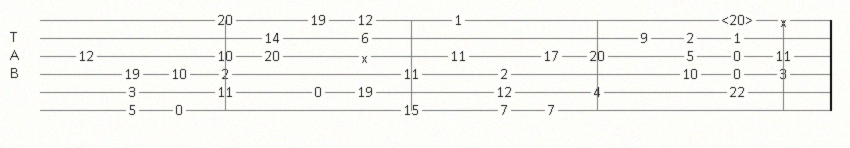0: (175, 103, 187, 117), (314, 85, 326, 99), (733, 67, 745, 81), (733, 49, 745, 63)
1: (454, 13, 466, 27), (733, 31, 745, 45)
10: (171, 67, 191, 81), (217, 49, 237, 63), (682, 67, 702, 81)
11: (217, 85, 237, 99), (403, 67, 423, 81), (450, 49, 470, 63), (775, 49, 795, 63)
12: (78, 49, 98, 63), (357, 13, 377, 27), (496, 85, 516, 99)
14: (264, 31, 284, 45)
15: (403, 103, 423, 117)
17: (543, 49, 563, 63)
19: (124, 67, 144, 81), (310, 13, 330, 27), (357, 85, 377, 99)
2: (221, 67, 233, 81), (500, 67, 512, 81), (686, 31, 698, 45)
20: (217, 13, 237, 27), (264, 49, 284, 63), (589, 49, 609, 63)
22: (729, 85, 749, 99)
3: (128, 85, 140, 99), (779, 67, 791, 81)
4: (593, 85, 605, 99)
5: (128, 103, 140, 117), (686, 49, 698, 63)
6: (361, 31, 373, 45)
7: (500, 103, 512, 117), (547, 103, 559, 117)
9: (640, 31, 652, 45)
harmonic: (721, 13, 757, 27)
x: (361, 51, 372, 62), (780, 15, 791, 26)
